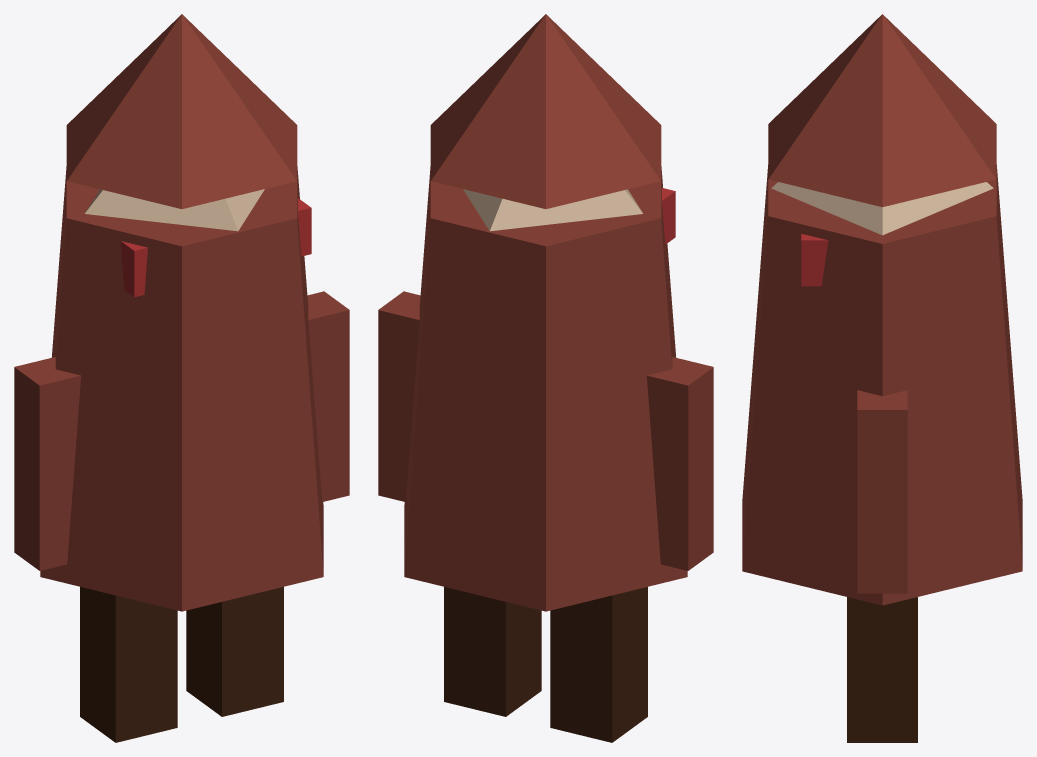
Rendered from citizen_b.glb.
The picture shows the model from 3 angles, left to right: view 1: azimuth 30°, elevation 25°; view 2: azimuth 150°, elevation 25°; view 3: azimuth 270°, elevation 25°; orthographic projection.
Parts seen in each view (by area): view 1: citizen_b; view 2: citizen_b; view 3: citizen_b.
Boxes of the visible parts, left/top/right/bottom form: citizen_b: left=14, top=14, right=349, bottom=742; citizen_b: left=378, top=14, right=713, bottom=742; citizen_b: left=742, top=14, right=1022, bottom=742.
Size of the model in its own units: 0.35 by 0.75 by 0.2771.
